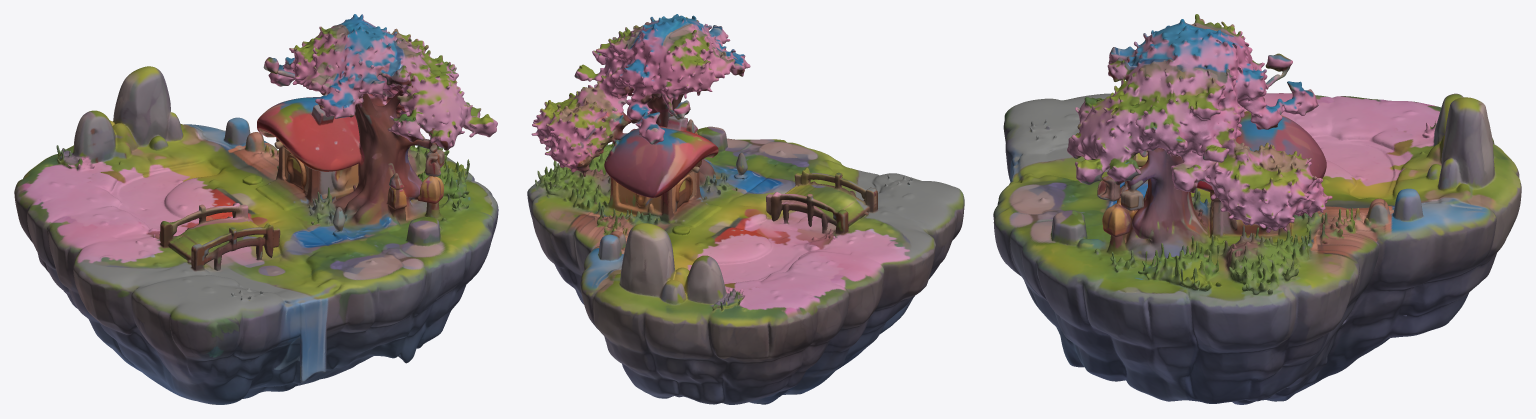
File: tripo_convert_275d2f8a-8acf-4c06-af66-edeac41ce87b.fbx
The picture shows the model from 3 angles, left to right: view 1: azimuth 30°, elevation 25°; view 2: azimuth 150°, elevation 25°; view 3: azimuth 270°, elevation 25°; orthographic projection. The views are drawn at different scales.
Parts seen in each view (by area): view 1: tripo_node_275d2f8a; view 2: tripo_node_275d2f8a; view 3: tripo_node_275d2f8a.
Boxes of the visible parts, <box> form: tripo_node_275d2f8a: <box>14,14,498,404</box>; tripo_node_275d2f8a: <box>527,14,964,404</box>; tripo_node_275d2f8a: <box>993,14,1521,404</box>.
Size of the model in its own units: 100 by 99.98 by 87.27.
1 material, 1 textured.
